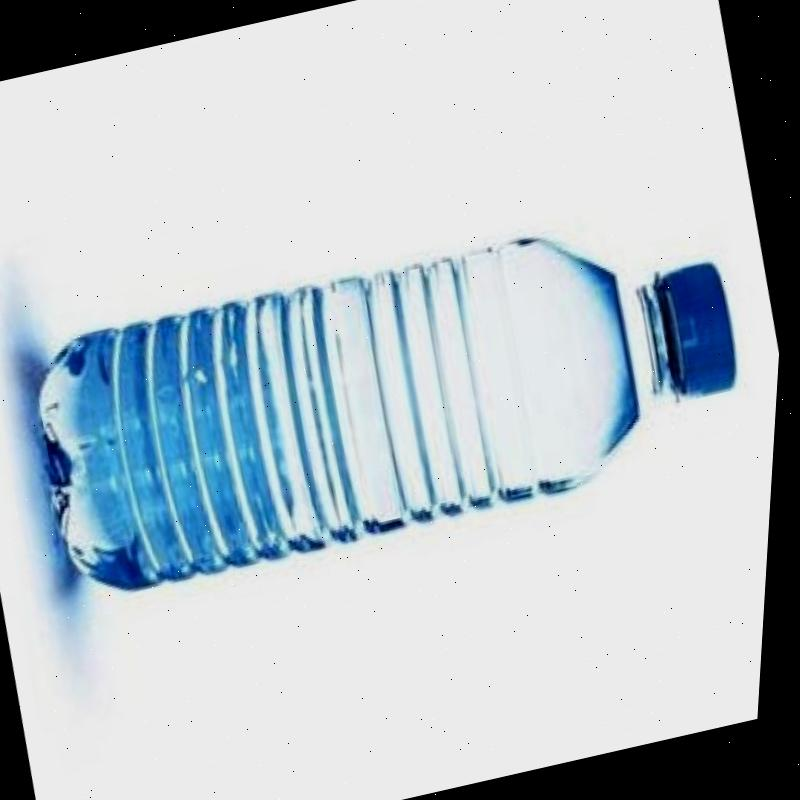botella: (14, 185, 772, 608)
